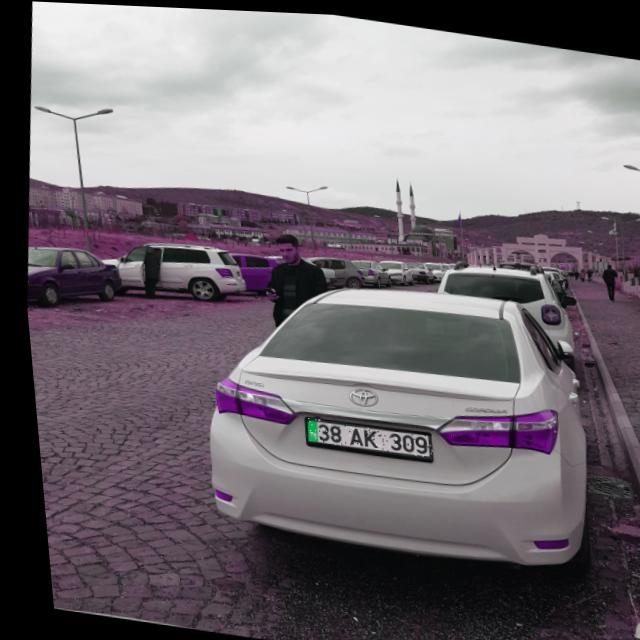license_plate: (297, 415, 426, 457)
